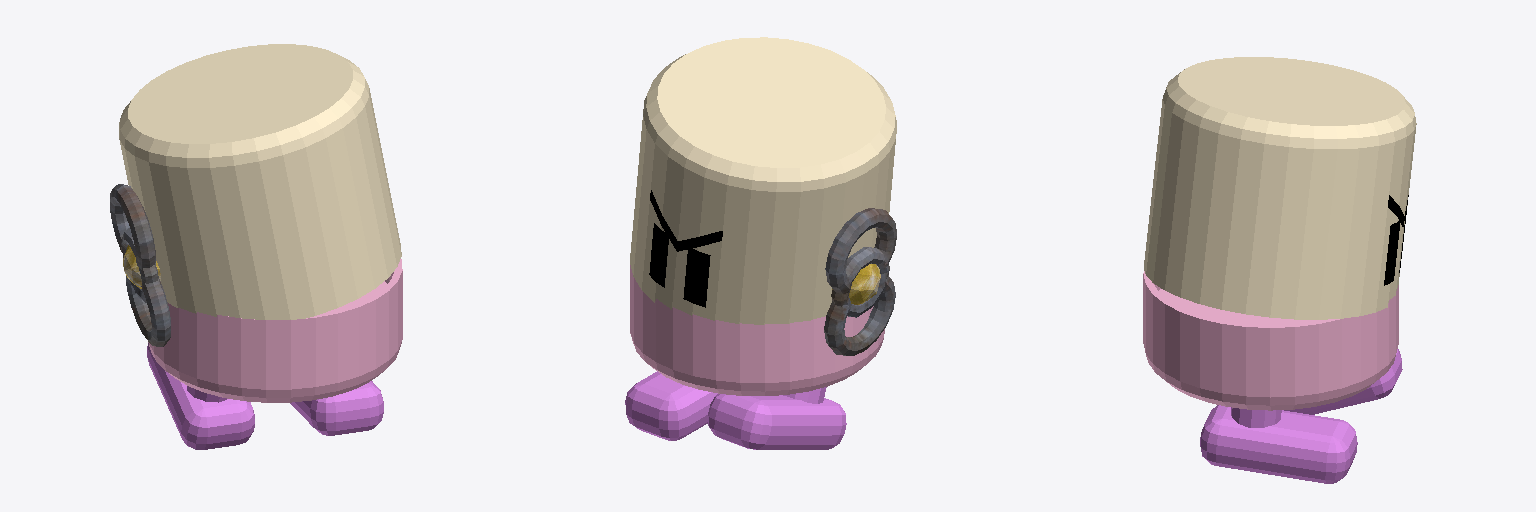
3 views of the same model, side by side, from view 1: azimuth 30°, elevation 25°; view 2: azimuth 150°, elevation 25°; view 3: azimuth 270°, elevation 25° (orthographic).
Parts seen in each view (by area): view 1: Head, Jaw, WindupKey, LeftLeg, RightLeg; view 2: Head, Jaw, WindupKey, LeftLeg, RightLeg; view 3: Head, Jaw, RightLeg, LeftLeg.
Boxes of the visible parts, x1,y1,x2,y2 form: Head: [119, 44, 401, 319]; Jaw: [148, 259, 402, 402]; WindupKey: [110, 184, 170, 346]; LeftLeg: [147, 343, 254, 449]; RightLeg: [290, 381, 383, 435]; Head: [630, 37, 896, 324]; Jaw: [630, 265, 884, 395]; WindupKey: [824, 208, 896, 355]; LeftLeg: [708, 387, 846, 449]; RightLeg: [625, 371, 717, 440]; Head: [1144, 57, 1416, 319]; Jaw: [1143, 271, 1398, 410]; RightLeg: [1200, 405, 1357, 483]; LeftLeg: [1284, 349, 1402, 414].
Size of the model in its own units: 113 by 154 by 107.
6 materials, 2 textured.